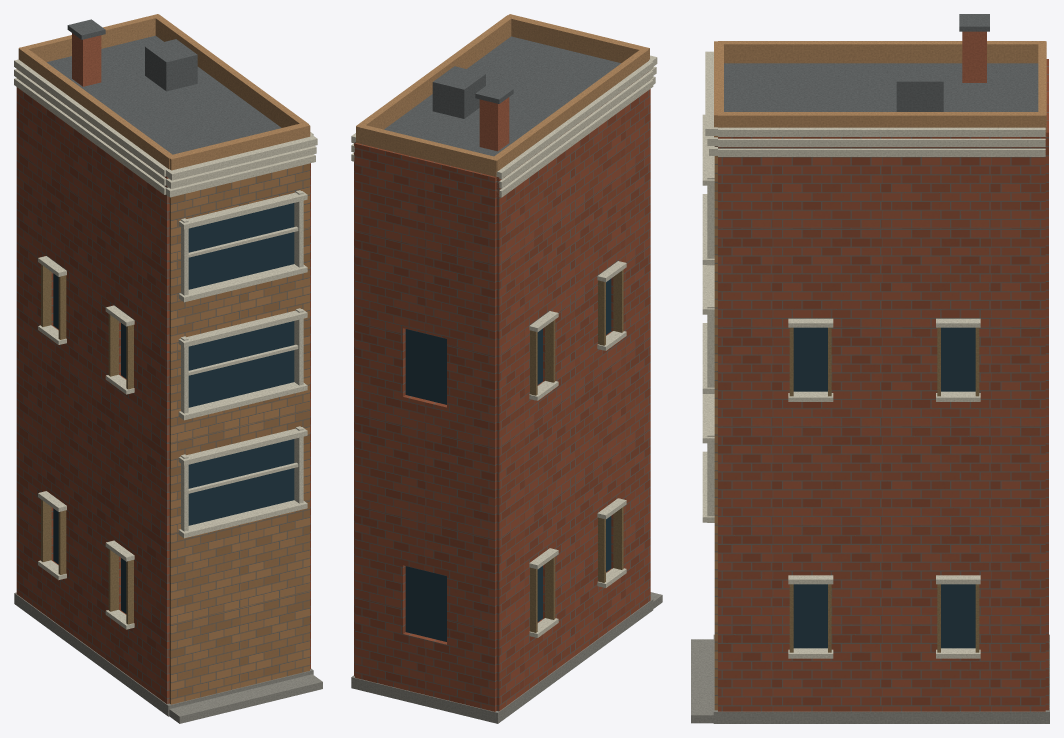
File: WRHS1_lod2.glb
3 views of the same model, side by side, from view 1: azimuth 30°, elevation 25°; view 2: azimuth 150°, elevation 25°; view 3: azimuth 270°, elevation 25° (orthographic). The views are drawn at different scales.
Parts seen in each view (by area): view 1: WRHS1_LOD2; view 2: WRHS1_LOD2; view 3: WRHS1_LOD2.
Part boxes in pixels (x1,y1,x2,y2): WRHS1_LOD2: (14,14,322,723); WRHS1_LOD2: (351,14,662,723); WRHS1_LOD2: (691,14,1049,723).
Bounding box in the file's own units: 3.71 × 13.05 × 6.57.
Materials: 10 (8 with a texture image).
